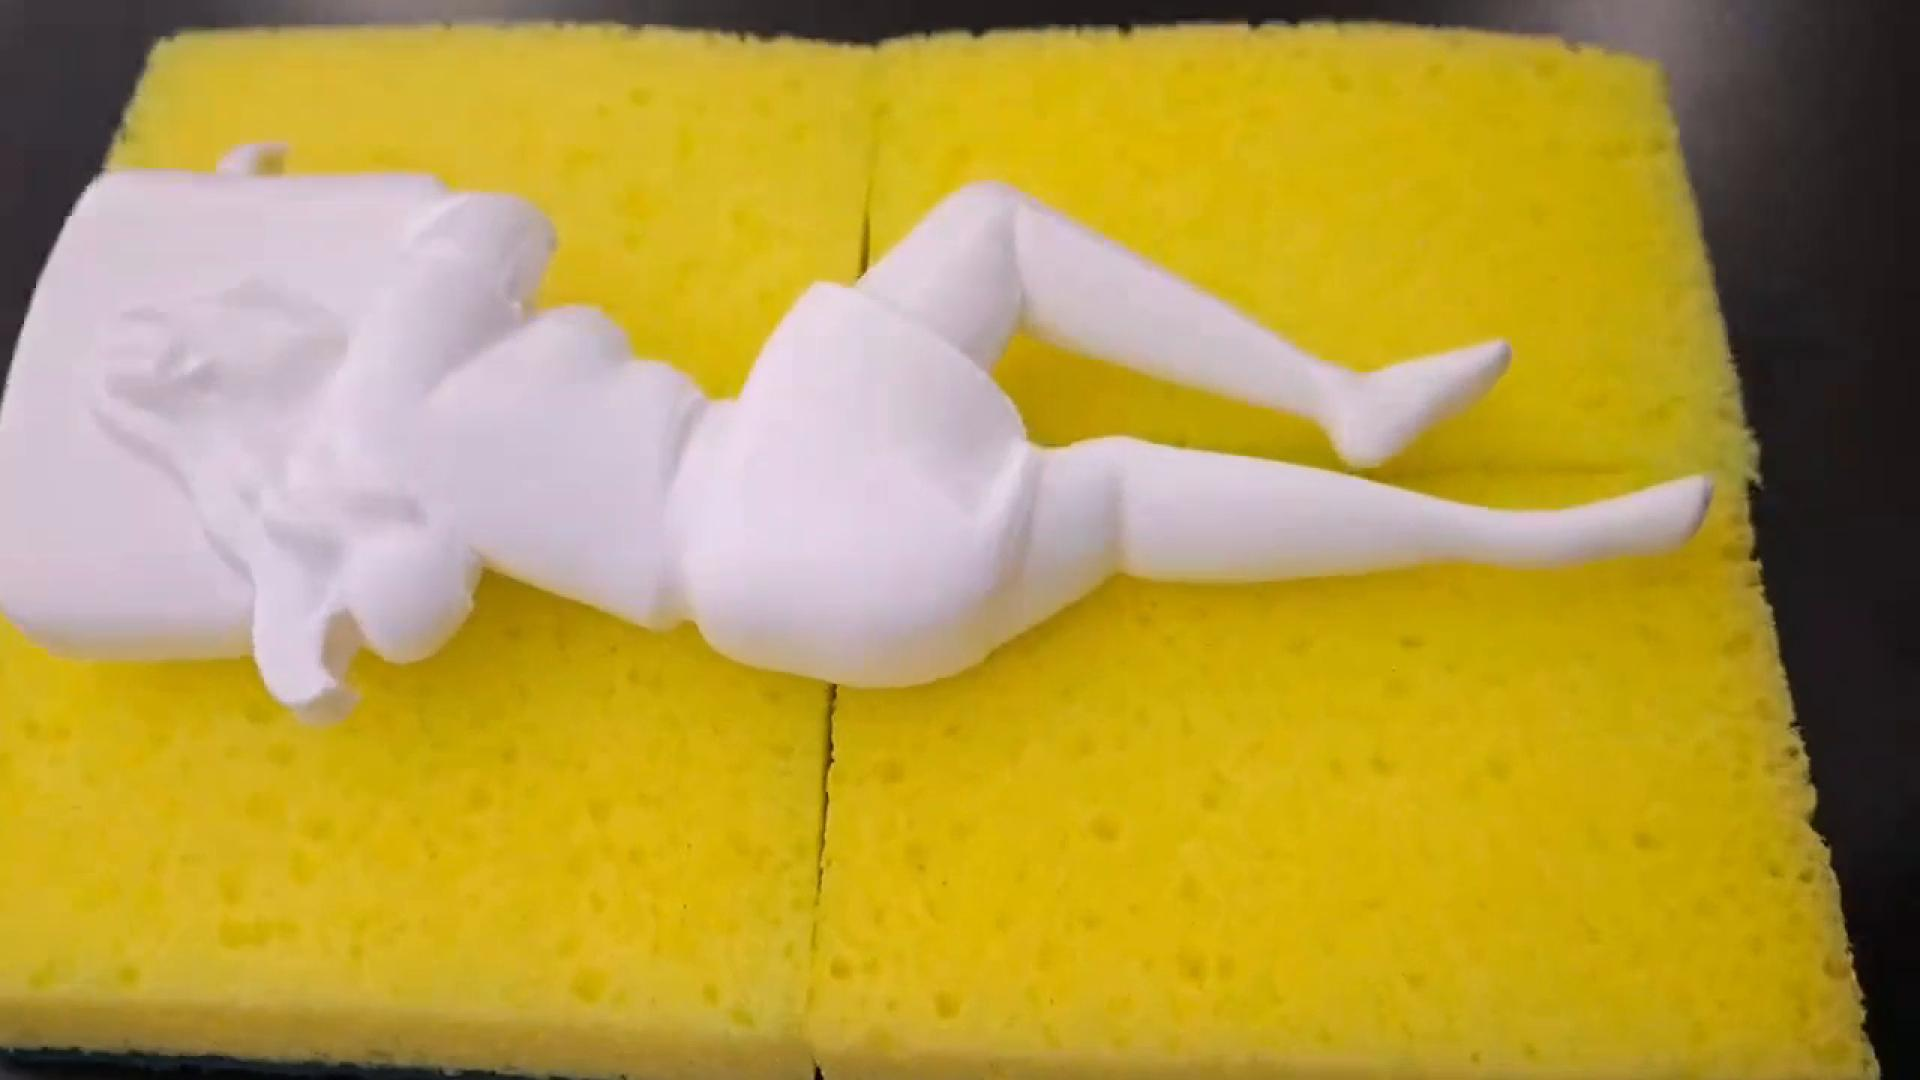Good-style: (0, 133, 1727, 729)
